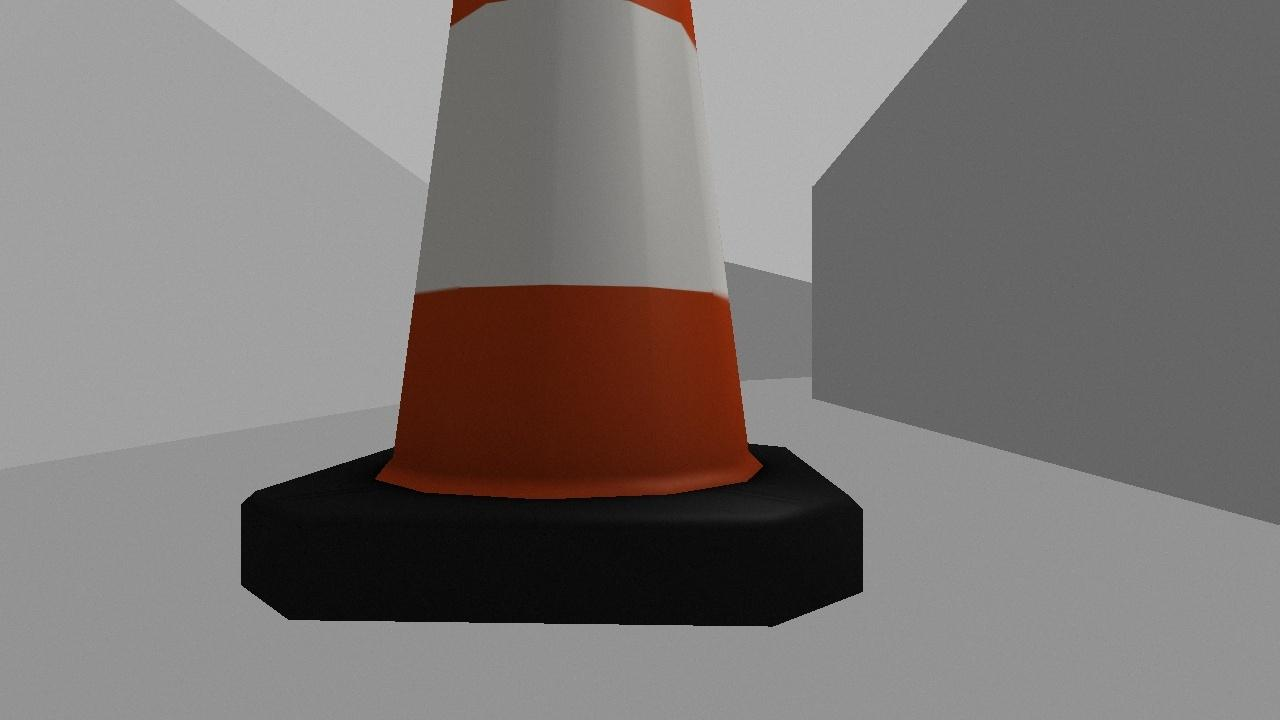cone_barrel: (210, 0, 896, 649)
